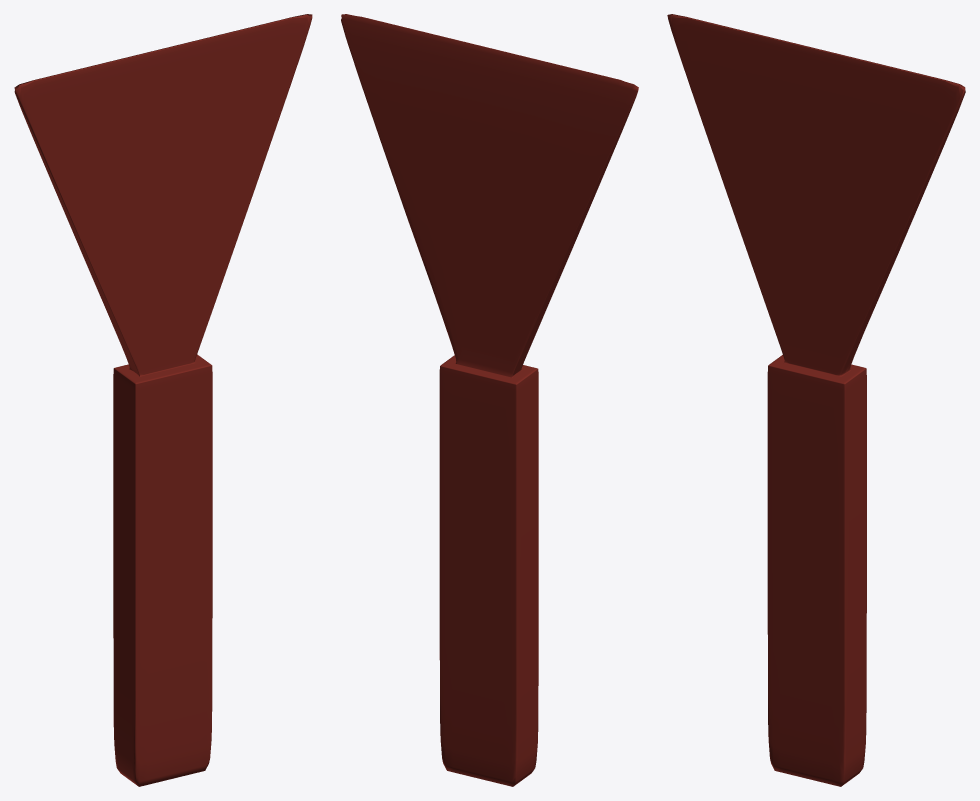
Rendered from SpatulaCopper02.fbx.
3 renders of one model, left to right at view 1: azimuth 30°, elevation 25°; view 2: azimuth 150°, elevation 25°; view 3: azimuth 330°, elevation 25°, orthographic.
Parts seen in each view (by area): view 1: pasted__HighPoly2; view 2: pasted__HighPoly2; view 3: pasted__HighPoly2.
Boxes of the visible parts, bbox=[...] form: pasted__HighPoly2: bbox=[14, 14, 312, 786]; pasted__HighPoly2: bbox=[341, 14, 638, 786]; pasted__HighPoly2: bbox=[667, 14, 965, 786].
Bounding box in the file's own units: 7.69 × 17.84 × 1.
